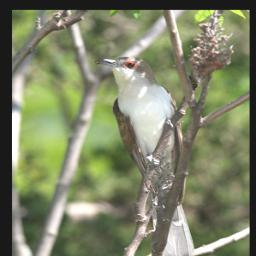Cuckoo: (95, 52, 199, 256)
